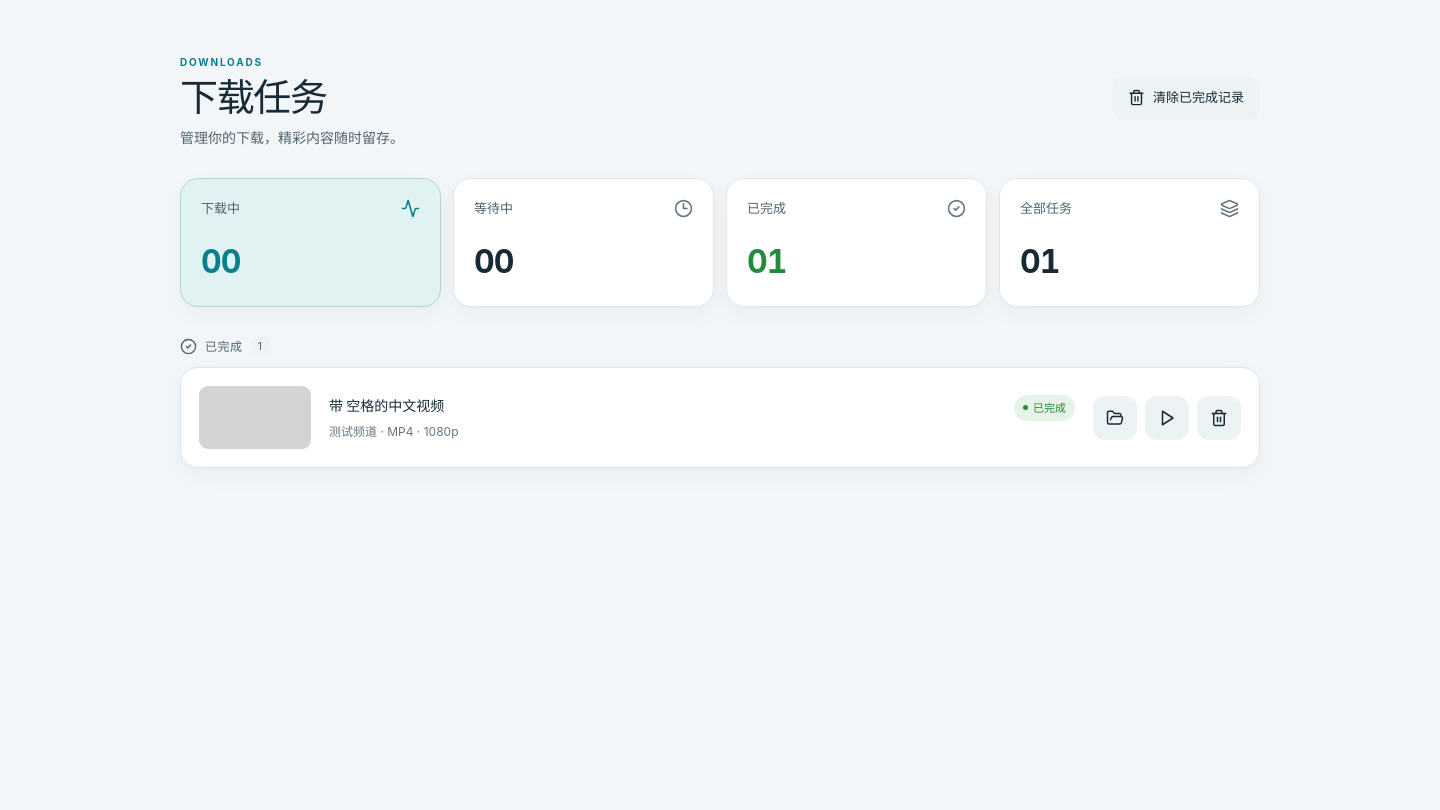
TasksView › keeps the dialog open and displays a file deletion error
Click the button named "删除任务 带 空格的中文视频" at (1219, 418), box [1197, 396, 1241, 440]
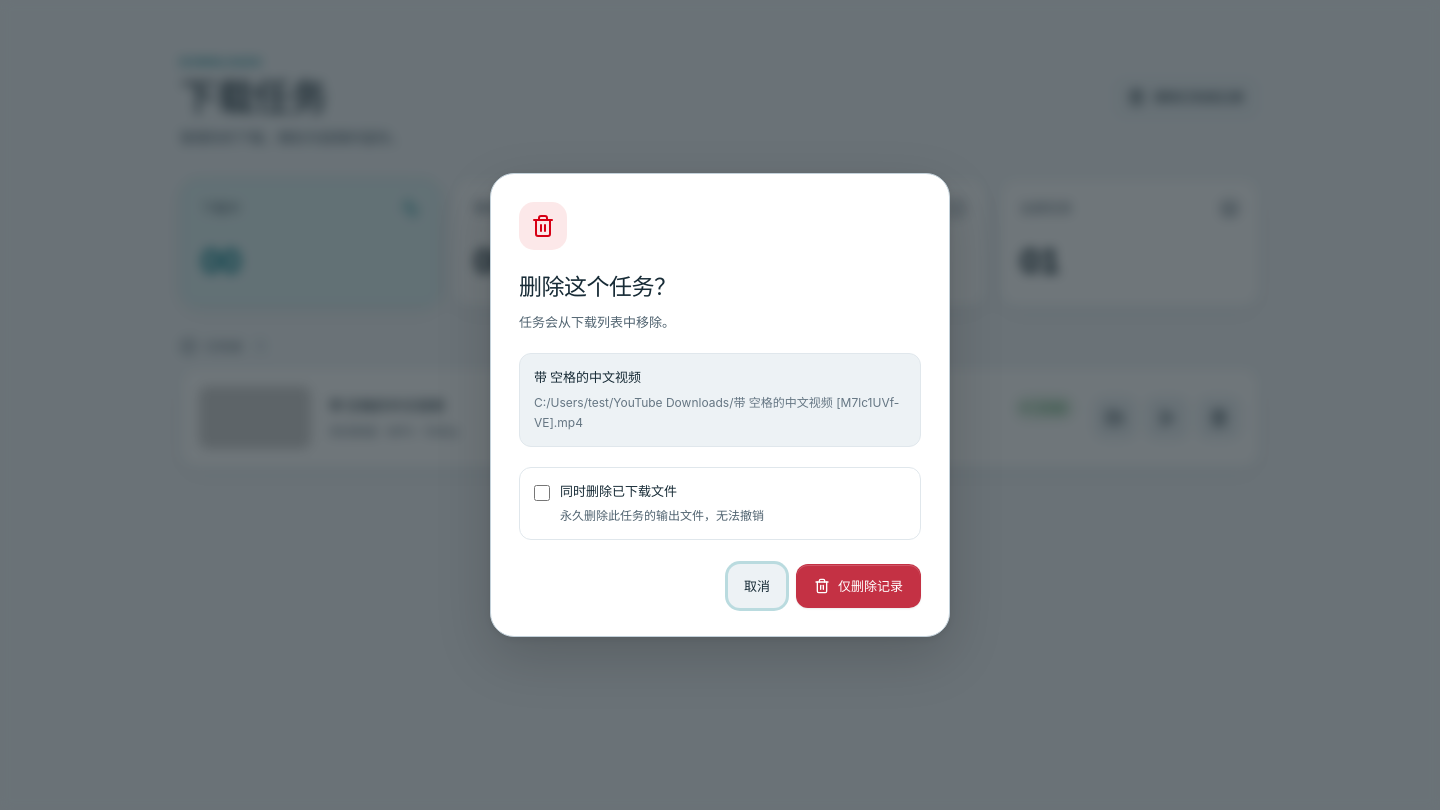
Click the checkbox labelled "同时删除已下载文件 永久删除此任务的输出文件，无法撤销" at (542, 493), box [534, 485, 550, 501]
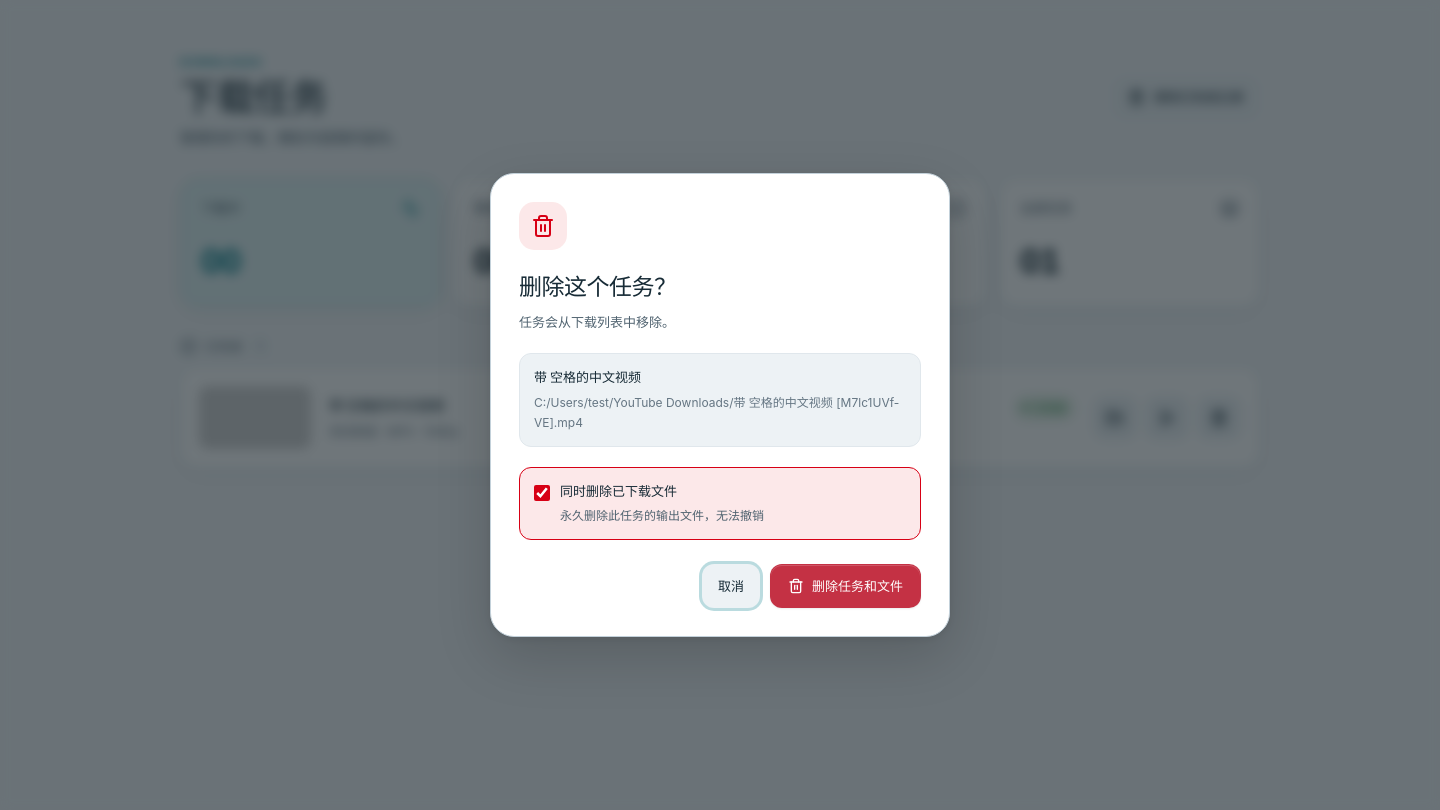
Click the button "删除任务和文件" at (846, 586), box [770, 564, 921, 608]
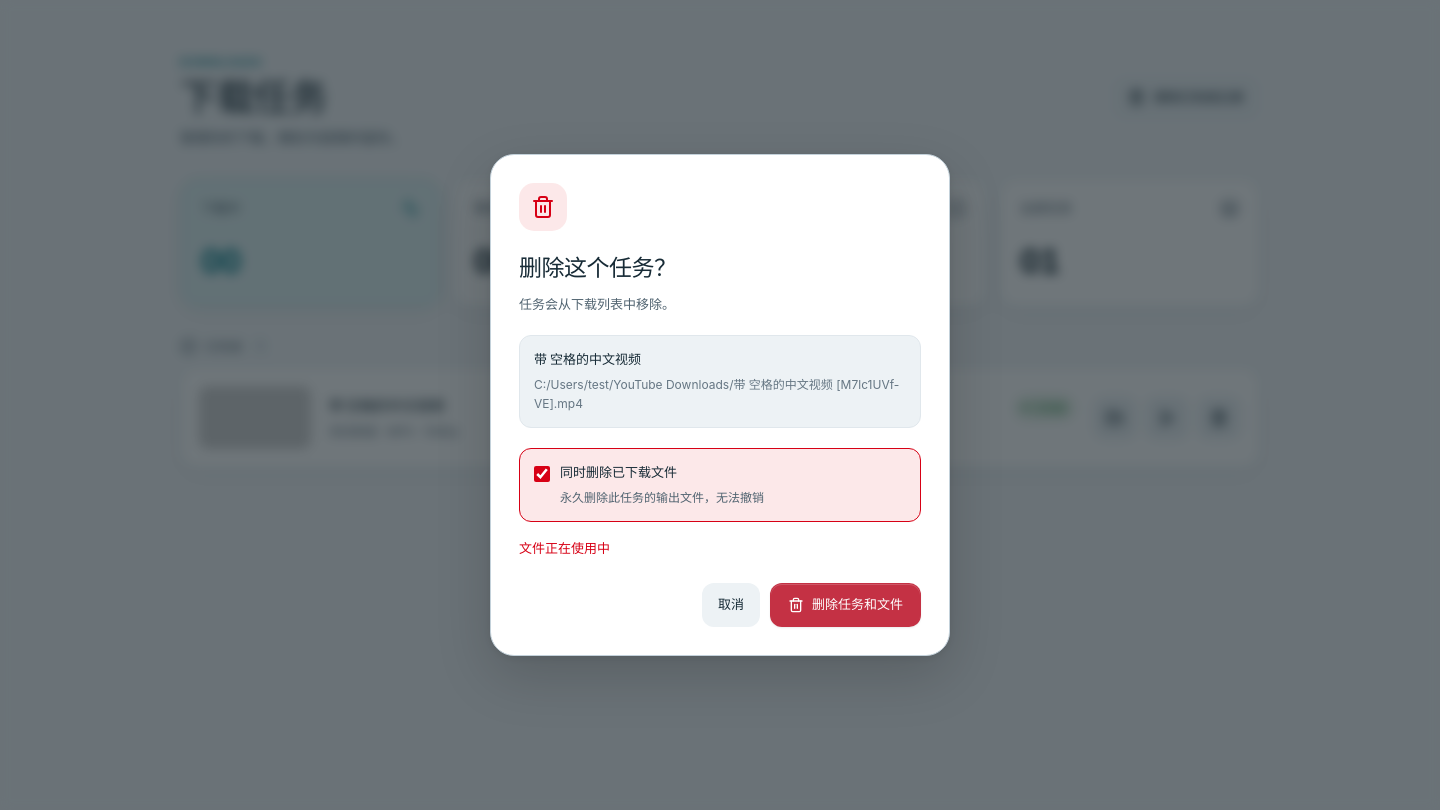
Check: the dialog is shown, box [490, 154, 950, 656]
Check: the message reads "文件正在使用中", box [519, 540, 610, 556]
